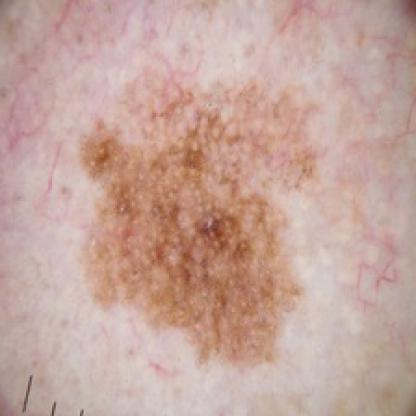malignant: (58, 110, 323, 370)
